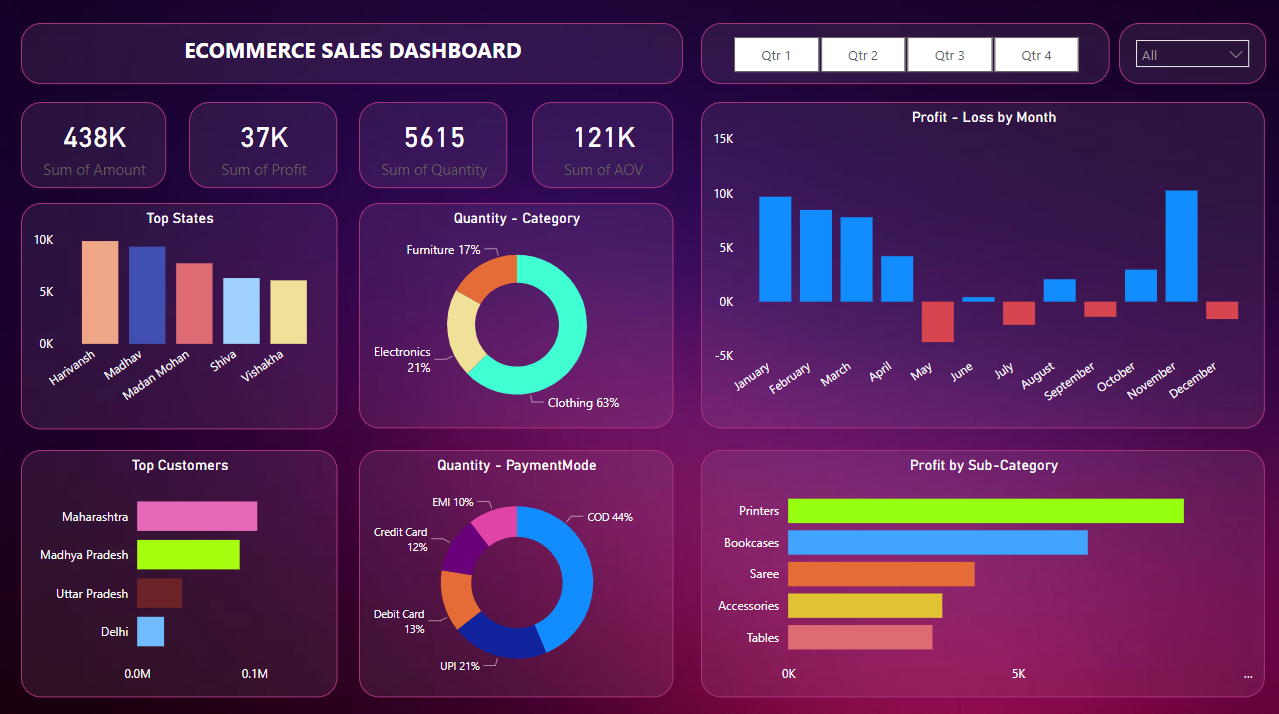

Layout of this report page (visuals, bound fields, positions):
{"tool":"powerbi","page":{"name":"Page 1","canvas":[1280,720],"ordinal":0},"visuals":[{"type":"textbox","box":[23,28,661,60.9],"z":0},{"type":"columnChart","title":"Profit - Loss by Month","fields":{"Category":["Orders.Order Date.Variation.Date Hierarchy.Month"],"Y":["Sum(Details.Profit)"]},"box":[701.9,106.8,563.1,326.5],"z":1000},{"type":"barChart","title":"Profit by Sub-Category","fields":{"Category":["Details.Sub-Category"],"Y":["Sum(Details.Profit)"]},"box":[701.9,454.3,563.1,246.6],"z":2000},{"type":"donutChart","title":"Quantity - Category","fields":{"Category":["Details.Category"],"Y":["Sum(Details.Quantity)"]},"box":[360.4,207.7,313.5,225],"z":3000},{"type":"donutChart","title":"Quantity - PaymentMode","fields":{"Category":["Details.PaymentMode","Details.Category"],"Y":["Sum(Details.Quantity)"]},"box":[360.4,454.3,313.5,246.6],"z":4000},{"type":"barChart","title":"Top Customers","fields":{"Category":["Orders.State"],"Y":["Sum(Details.Amount)"]},"box":[23,454.3,315.5,246.6],"z":5000},{"type":"columnChart","title":"Top States","fields":{"Category":["Orders.CustomerName"],"Y":["Sum(Details.Amount)"]},"box":[23,207.7,315.5,225.6],"z":6000},{"type":"card","fields":{"Values":["Sum(Details.Amount)"]},"box":[23,106.8,144.8,85.9],"z":7000},{"type":"card","fields":{"Values":["Sum(Details.Profit)"]},"box":[190.7,106.8,147.8,85.9],"z":8000},{"type":"card","fields":{"Values":["Sum(Details.Quantity)"]},"box":[360.4,106.8,147.8,85.9],"z":9000},{"type":"card","fields":{"Values":["Sum(Details.AOV)"]},"box":[533.2,106.8,140.8,85.9],"z":10000},{"type":"slicer","fields":{"Values":["Orders.State"]},"box":[1119.3,28,146.8,60.9],"z":11000},{"type":"slicer","fields":{"Values":["Orders.Order Date.Variation.Date Hierarchy.Quarter"]},"box":[701.9,28,408.4,60.9],"z":11001}]}

Visuals, with their boxes in screenshot pixels (x1, y1, x2, y2), scaled from the page's 1280x720 canvas onto the 1279x714 screenshot:
textbox: locate(23, 28, 683, 88)
"Profit - Loss by Month" columnChart: locate(701, 106, 1264, 430)
"Profit by Sub-Category" barChart: locate(701, 451, 1264, 695)
"Quantity - Category" donutChart: locate(360, 206, 673, 429)
"Quantity - PaymentMode" donutChart: locate(360, 451, 673, 695)
"Top Customers" barChart: locate(23, 451, 338, 695)
"Top States" columnChart: locate(23, 206, 338, 430)
card - Sum(Details.Amount): locate(23, 106, 168, 191)
card - Sum(Details.Profit): locate(191, 106, 338, 191)
card - Sum(Details.Quantity): locate(360, 106, 508, 191)
card - Sum(Details.AOV): locate(533, 106, 673, 191)
slicer - Orders.State: locate(1118, 28, 1265, 88)
slicer - Orders.Order Date.Variation.Date Hierarchy.Quarter: locate(701, 28, 1109, 88)
